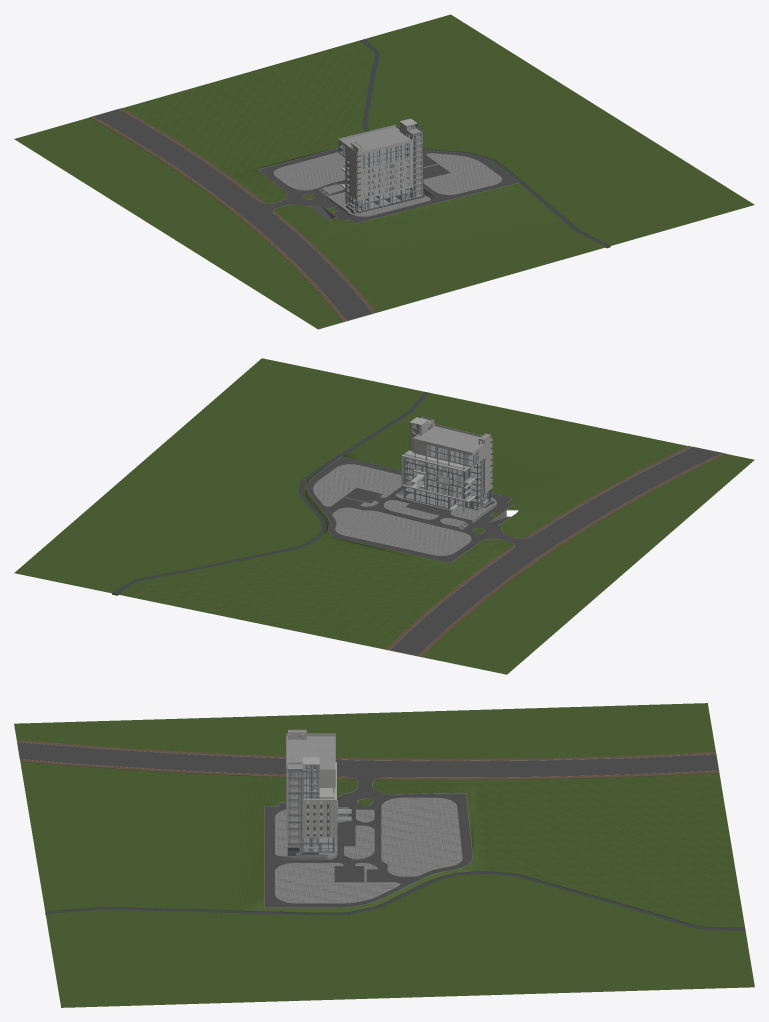
3 renders of one model, top to bottom at view 1: azimuth 30°, elevation 25°; view 2: azimuth 150°, elevation 25°; view 3: azimuth 270°, elevation 25°, orthographic. The views are drawn at different scales.
Visible parts, largest first — view 1: DX10, DX17, DX11, DX15, DX16, DX07, wg98, DX09, wg03, wg105, wg33, wg97; view 2: DX10, DX17, DX16, DX11, DX15, DX07, DX09, wg105, wg03, wg86, wg69, DX46 (+2 smaller); view 3: DX10, DX17, DX16, DX11, DX15, DX07, DX09, wg03, wg86, wg33, DX46, DX12 (+3 smaller).
Part boxes in pixels (x1,y1,x2,y2): DX10: (14,14,754,329); DX17: (94,109,372,320); DX11: (89,108,376,322); DX15: (423,153,501,194); DX16: (274,152,345,189); DX07: (93,109,519,321); wg98: (357,139,412,200); DX09: (359,39,609,246); wg03: (340,126,422,151); wg105: (345,159,411,211); wg33: (412,125,423,198); wg97: (364,145,408,196); DX10: (14,358,754,674); DX17: (390,447,721,655); DX16: (333,507,471,555); DX11: (385,446,726,656); DX15: (313,464,401,506); DX07: (306,446,722,656); DX09: (112,392,428,594); wg105: (403,459,490,509); wg03: (411,426,483,452); wg86: (401,450,475,502); wg69: (403,457,469,498); DX46: (345,488,399,512); DX10: (14,703,754,1007); DX17: (17,742,718,777); DX16: (381,797,462,876); DX11: (16,739,719,779); DX15: (275,863,399,903); DX07: (17,742,719,908); DX09: (45,872,745,930); wg03: (286,736,335,777); wg86: (303,762,336,837); wg33: (287,765,318,851); DX46: (328,854,386,881); DX12: (344,825,374,858).
Bounding box in the file's own units: 406498 × 61380 × 417629.
